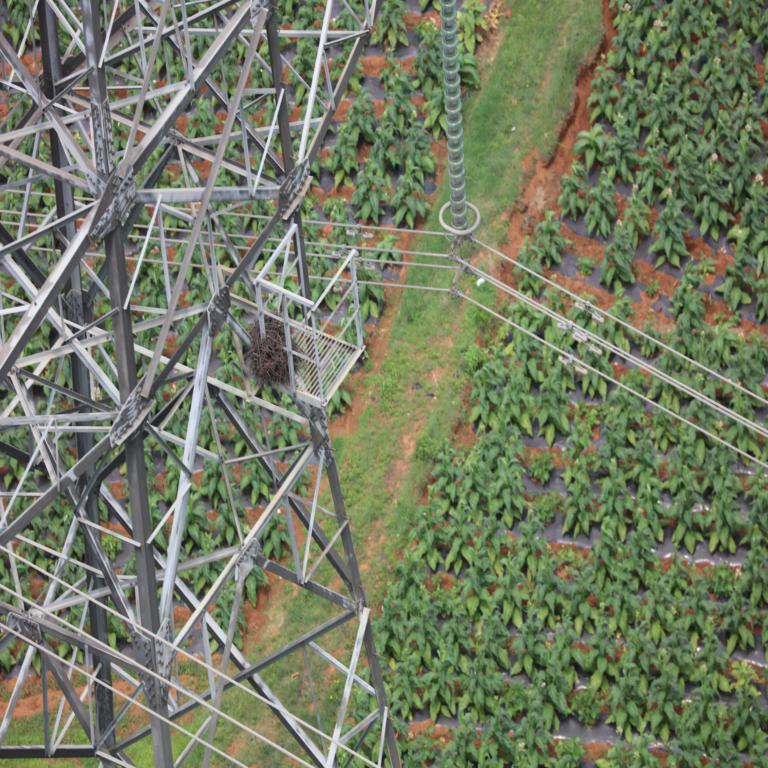nest: (244, 317, 297, 381)
